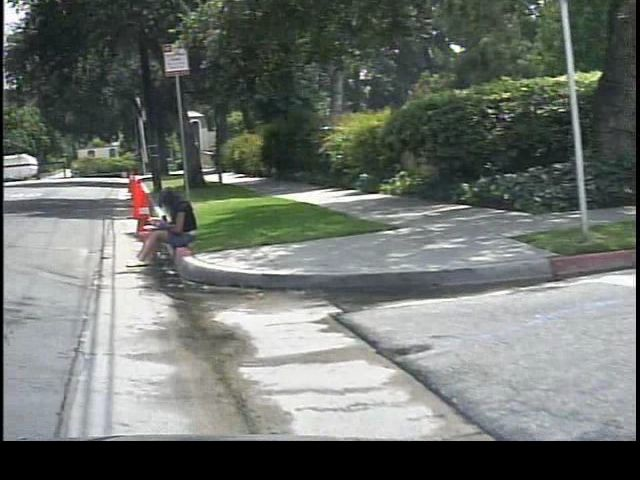person: (120, 182, 199, 271)
